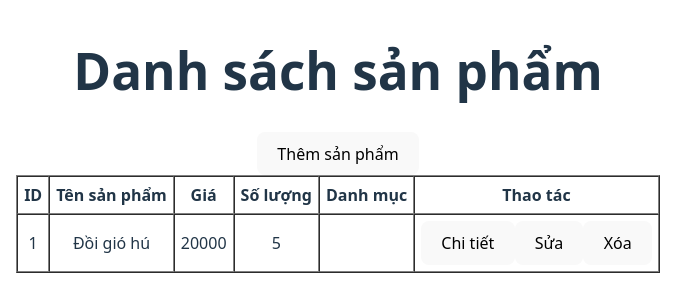
Product  Mock Tests › TC6: Hiển thị lỗi khi xóa thất bại
The image size is (677, 300).
Expected: the text "Đồi gió hú" is shown, 49,214 -> 174,272
Click the button with test id "product-Delete1".
click(618, 243)  # box 583,222 -> 652,265
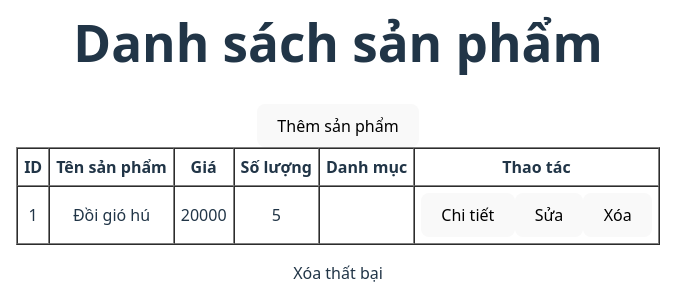
Expected: the text "Đồi gió hú" is shown, 49,186 -> 174,244
Result: the text with test id "error-message" reads "Xóa thất bại" at 293,262 -> 383,284
